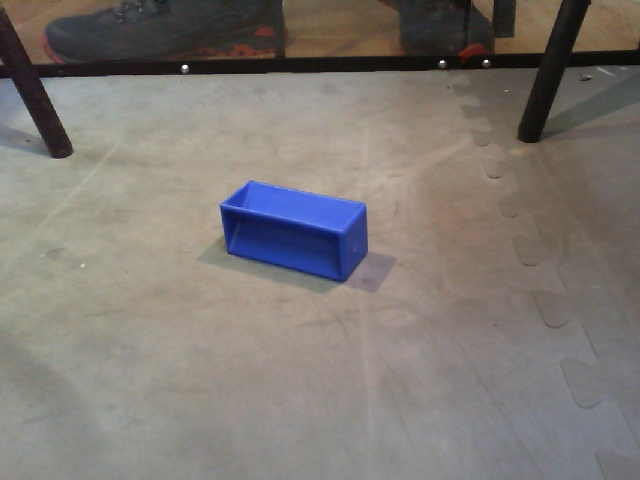BlueSample: (217, 175, 374, 285)
